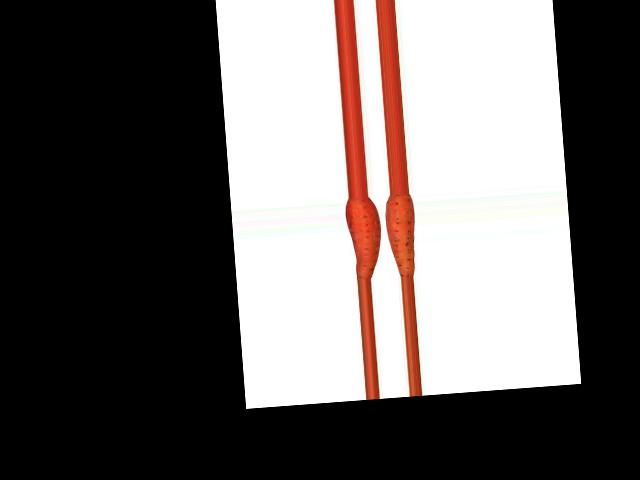sweet_potato: (383, 192, 417, 275)
